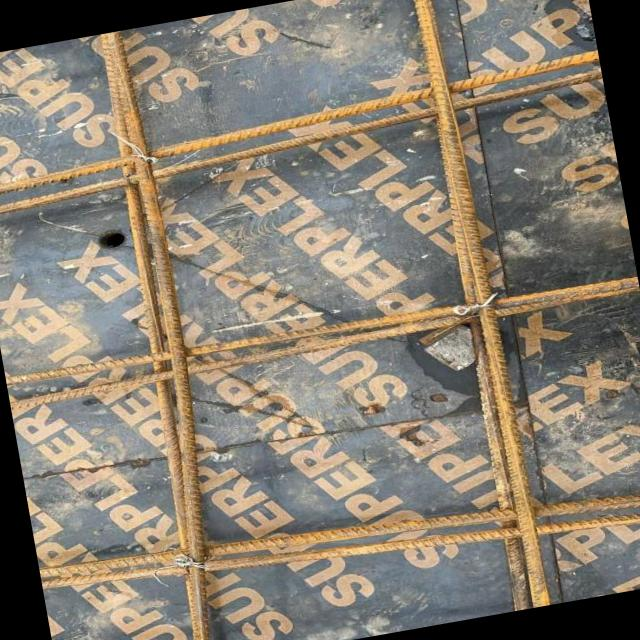ribbed bar: (41, 468, 640, 630), (83, 29, 239, 640), (39, 457, 640, 612), (0, 50, 604, 202), (0, 69, 606, 220), (399, 0, 549, 610), (5, 266, 638, 398), (7, 281, 640, 411)
